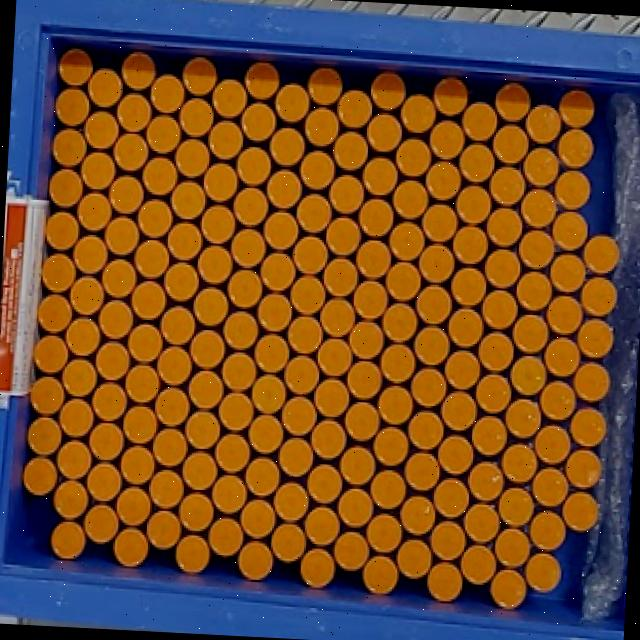vials: (440, 390, 478, 432), (531, 467, 569, 508), (582, 235, 620, 275), (524, 553, 562, 593), (490, 569, 528, 609), (557, 128, 594, 169), (554, 170, 591, 211), (546, 295, 583, 336), (573, 362, 610, 403), (471, 415, 508, 456), (562, 491, 599, 532), (366, 513, 403, 554), (306, 464, 343, 505), (86, 462, 123, 503), (211, 79, 248, 119), (299, 150, 336, 190), (492, 124, 529, 164), (392, 180, 429, 220), (486, 207, 523, 247), (484, 249, 521, 289), (447, 308, 484, 348), (544, 337, 581, 377), (569, 407, 606, 447), (281, 396, 318, 436), (373, 426, 410, 466), (475, 374, 512, 414), (501, 444, 538, 484), (494, 528, 531, 568), (433, 478, 470, 518), (396, 539, 433, 579), (370, 469, 407, 509), (337, 488, 374, 528), (304, 506, 341, 546), (237, 540, 274, 580), (580, 276, 617, 316), (241, 102, 277, 143), (416, 284, 452, 325), (516, 271, 552, 312), (157, 346, 193, 387), (22, 456, 58, 497), (53, 480, 89, 521), (468, 461, 504, 502), (400, 495, 436, 536), (278, 437, 314, 478), (208, 517, 244, 558), (178, 492, 214, 533), (366, 113, 403, 152), (429, 120, 466, 159), (525, 105, 562, 144), (189, 330, 226, 369), (565, 450, 602, 489), (362, 555, 399, 594), (87, 68, 123, 108), (137, 199, 173, 239), (233, 187, 269, 227), (227, 269, 263, 309), (131, 281, 167, 321), (37, 294, 73, 334), (337, 89, 373, 129), (462, 102, 498, 142), (459, 143, 495, 183), (495, 82, 531, 122), (456, 185, 492, 225), (552, 211, 588, 251), (358, 198, 394, 238), (451, 267, 487, 307), (478, 332, 514, 372), (540, 380, 576, 420), (290, 275, 326, 315), (193, 287, 229, 327), (91, 382, 127, 422), (380, 344, 416, 384), (214, 433, 250, 473), (311, 420, 347, 460), (411, 368, 447, 408), (535, 425, 571, 465), (498, 487, 534, 527), (530, 511, 566, 551), (464, 503, 500, 543), (460, 545, 496, 585), (430, 521, 466, 561), (273, 482, 309, 522), (245, 457, 281, 497), (300, 548, 336, 588), (333, 531, 369, 571), (182, 451, 218, 491), (83, 504, 119, 544), (146, 510, 182, 550), (356, 239, 391, 280), (59, 398, 94, 439), (320, 297, 355, 338), (241, 498, 276, 539), (212, 474, 247, 515), (577, 320, 614, 358), (83, 111, 119, 150), (113, 133, 149, 172), (142, 157, 178, 196), (174, 139, 210, 178), (167, 221, 203, 260), (260, 252, 296, 291), (263, 211, 299, 250), (69, 276, 105, 315), (98, 300, 134, 339), (362, 157, 398, 196), (559, 90, 595, 129), (523, 148, 559, 187), (490, 167, 526, 206), (422, 204, 458, 243), (550, 254, 586, 293), (293, 236, 329, 275), (419, 244, 455, 283), (482, 290, 518, 329), (512, 314, 548, 353), (382, 303, 418, 342), (510, 356, 546, 395), (56, 440, 92, 479), (89, 422, 125, 461), (317, 338, 353, 377), (408, 411, 444, 450), (505, 399, 541, 438), (404, 452, 440, 491), (340, 446, 376, 485), (248, 415, 284, 454), (271, 523, 307, 562), (113, 528, 149, 567), (55, 87, 90, 127), (150, 74, 185, 114), (179, 98, 214, 138), (208, 120, 243, 160), (275, 83, 310, 123), (267, 169, 302, 209), (164, 262, 199, 302), (198, 245, 233, 285), (297, 193, 332, 233), (102, 258, 137, 298), (333, 131, 368, 171), (329, 174, 364, 214), (426, 161, 461, 201), (453, 225, 488, 265), (519, 230, 554, 270), (386, 262, 421, 302), (445, 350, 480, 390), (223, 311, 258, 351), (27, 416, 62, 456), (347, 360, 382, 400), (345, 402, 380, 442), (438, 435, 473, 475), (427, 561, 462, 601), (116, 486, 151, 526), (104, 217, 140, 255), (269, 128, 305, 166), (127, 324, 163, 362), (389, 222, 425, 260), (414, 327, 450, 365), (185, 411, 221, 449), (121, 51, 156, 90), (117, 93, 152, 132), (109, 175, 144, 214), (77, 193, 112, 232), (146, 115, 181, 154), (171, 181, 206, 220), (203, 163, 238, 202), (134, 240, 169, 279), (161, 306, 196, 345), (95, 341, 130, 380), (65, 317, 100, 356), (34, 335, 69, 374), (371, 71, 406, 110), (401, 94, 436, 133), (433, 77, 468, 116), (396, 138, 431, 177), (521, 189, 556, 228), (326, 217, 361, 256), (323, 257, 358, 296), (353, 281, 388, 320), (257, 293, 292, 332), (125, 364, 160, 403), (155, 388, 190, 427), (189, 370, 224, 409), (349, 320, 384, 359), (288, 315, 323, 354), (284, 355, 319, 394), (251, 375, 286, 414), (219, 392, 254, 431), (153, 428, 188, 467), (314, 378, 349, 417), (149, 470, 184, 509), (120, 446, 155, 485), (305, 107, 339, 147), (50, 522, 86, 559), (81, 152, 116, 190), (73, 235, 108, 273), (237, 147, 272, 185), (231, 229, 266, 267), (30, 376, 65, 414), (62, 359, 97, 397), (307, 67, 342, 105), (123, 406, 158, 444), (254, 335, 289, 373), (378, 386, 413, 424), (175, 535, 210, 573), (49, 169, 83, 208), (46, 212, 80, 251), (42, 253, 76, 292), (222, 352, 256, 391), (245, 62, 280, 99), (183, 58, 217, 96), (201, 205, 235, 243), (53, 128, 86, 167), (59, 48, 93, 85)
